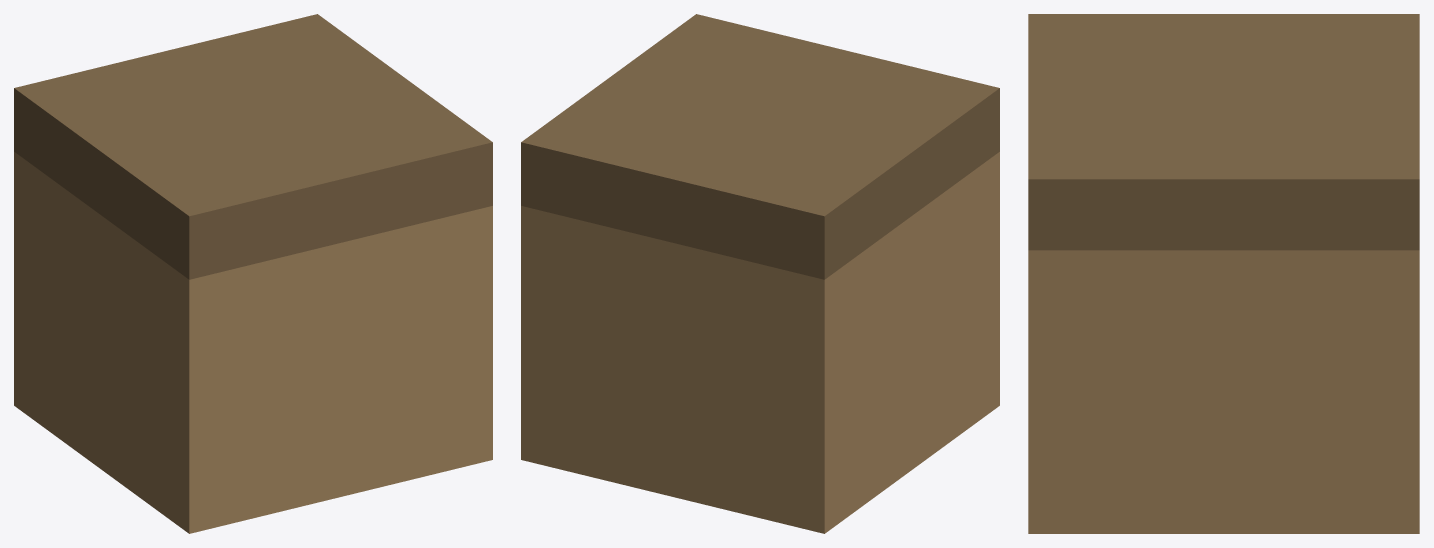
Rendered from BlocksAndFloors-45.obj.
3 renders of one model, left to right at view 1: azimuth 30°, elevation 25°; view 2: azimuth 150°, elevation 25°; view 3: azimuth 270°, elevation 25°, orthographic. The views are drawn at different scales.
Size of the model in its own units: 1 by 1 by 1.
Materials: 1 (1 with a texture image).
